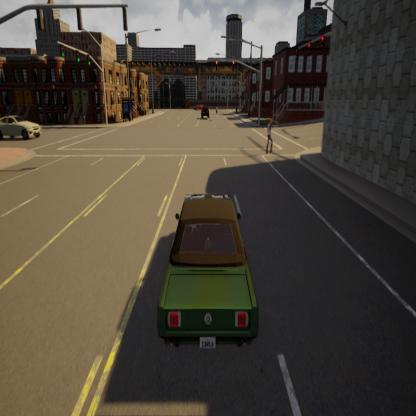Cars: (154, 191, 262, 351), (0, 108, 41, 145), (200, 102, 210, 121)
Pedestrian: (265, 116, 275, 155)
